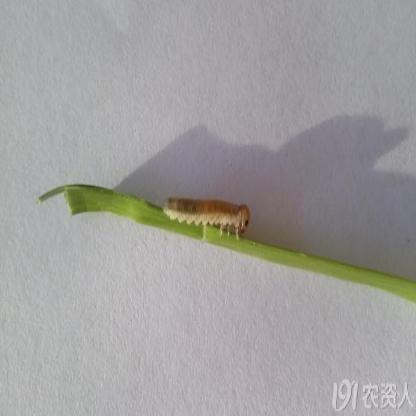sawfly: (159, 188, 252, 250)
